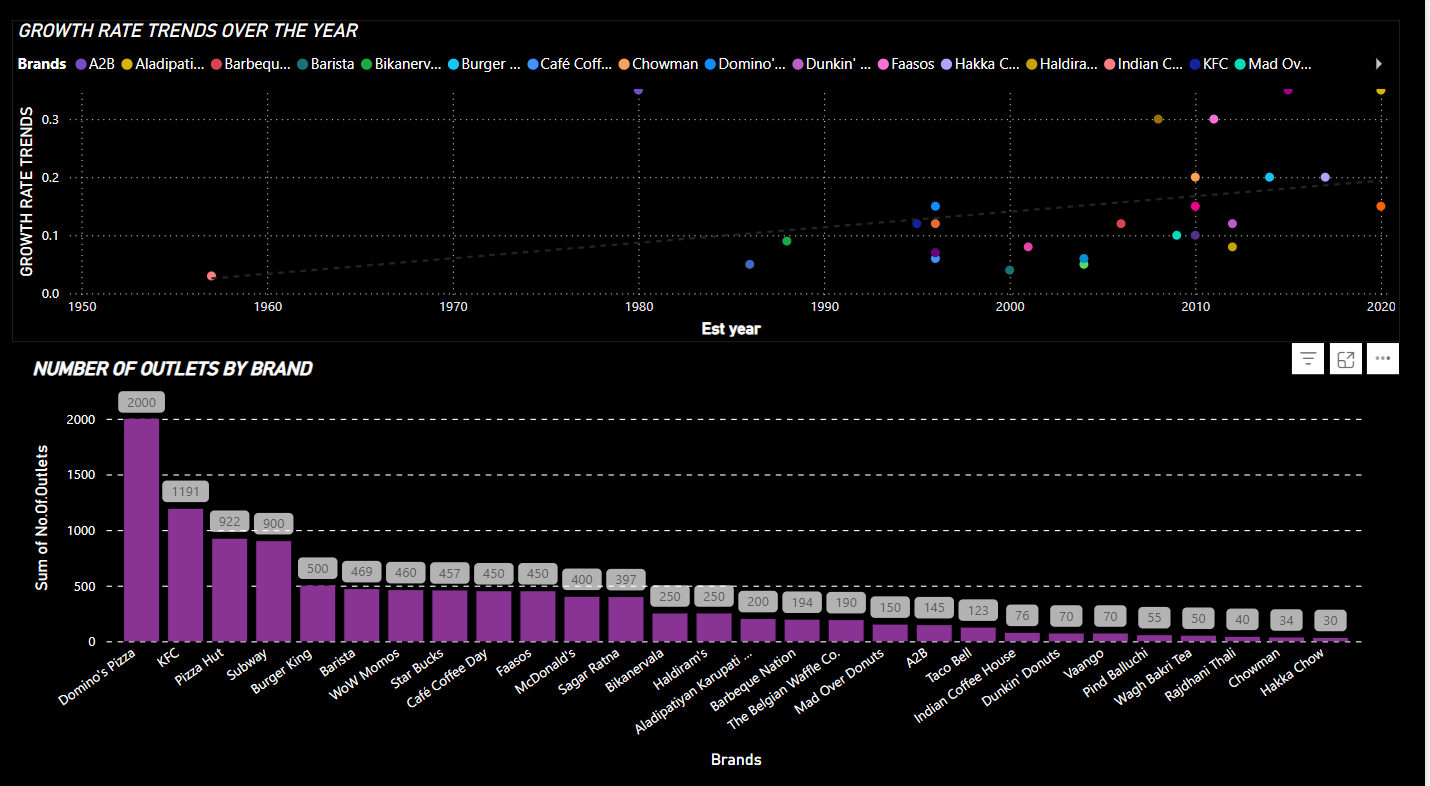

The page's visual inventory and layout, read from the dashboard file:
{"tool":"powerbi","page":{"name":"Page 2","canvas":[1280,720],"ordinal":1},"visuals":[{"type":"lineChart","title":"GROWTH RATE TRENDS OVER THE YEAR ","fields":{"Category":["Table1.Est year"],"Y":["Sum(Table1.Growth rate  23-24)"],"Series":["Table1.Brands"]},"box":[13.6,20.4,1245,288.9],"z":0},{"type":"lineStackedColumnComboChart","title":"NUMBER OF OUTLETS BY BRAND","fields":{"Category":["Table1.Brands"],"Y":["Sum(Table1.No.Of.Outlets)"]},"box":[26.3,322.9,1205.1,373.5],"z":1000}]}

Visuals, with their boxes in screenshot pixels (x1, y1, x2, y2), scaled from the page's 1280x720 canvas onto the 1430x786 screenshot:
"GROWTH RATE TRENDS OVER THE YEAR " lineChart: select_region(15, 22, 1406, 338)
"NUMBER OF OUTLETS BY BRAND" lineStackedColumnComboChart: select_region(29, 352, 1376, 760)
